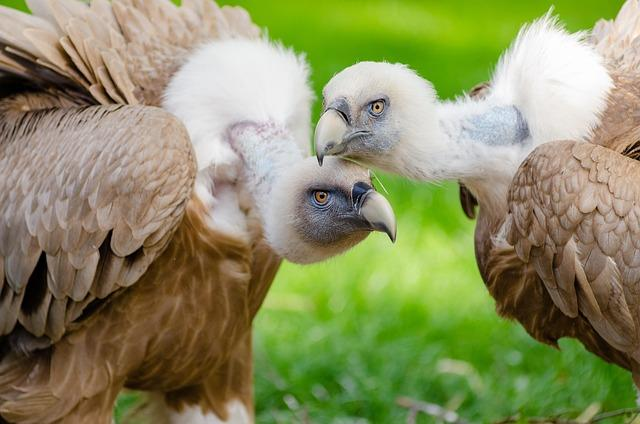Non_Gorille: (12, 6, 640, 389)
